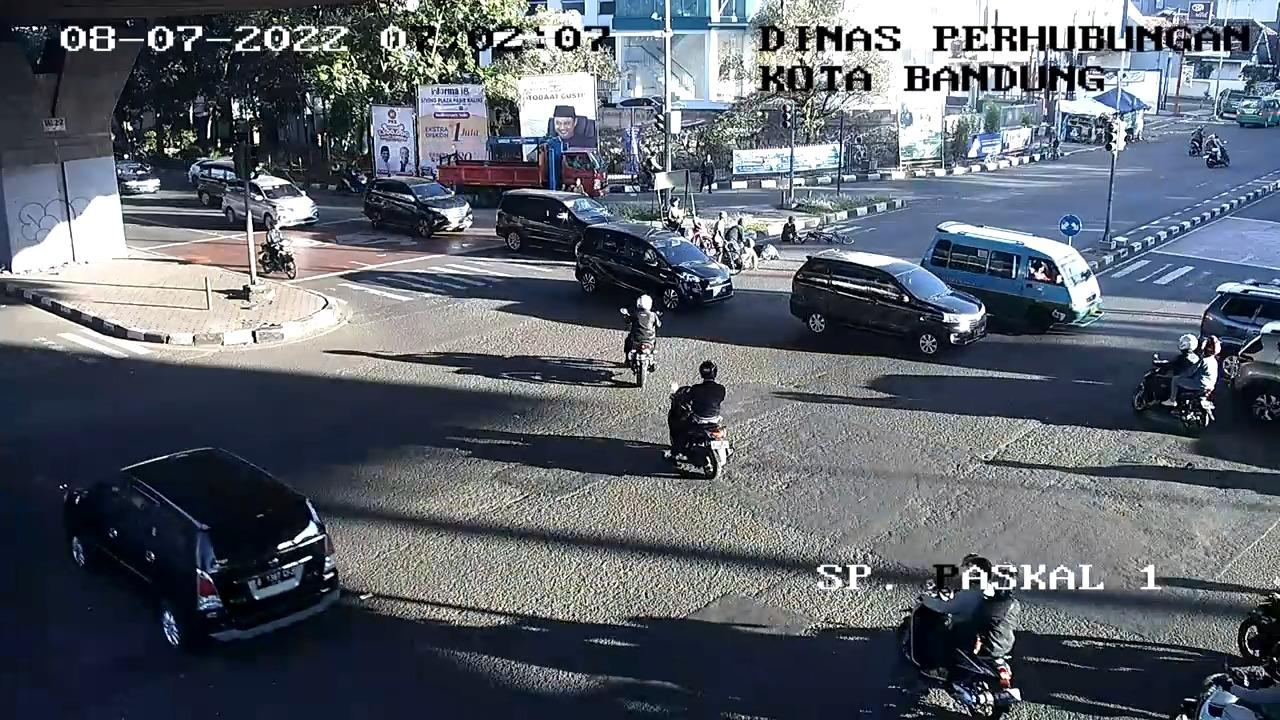accident: (766, 206, 808, 245)
